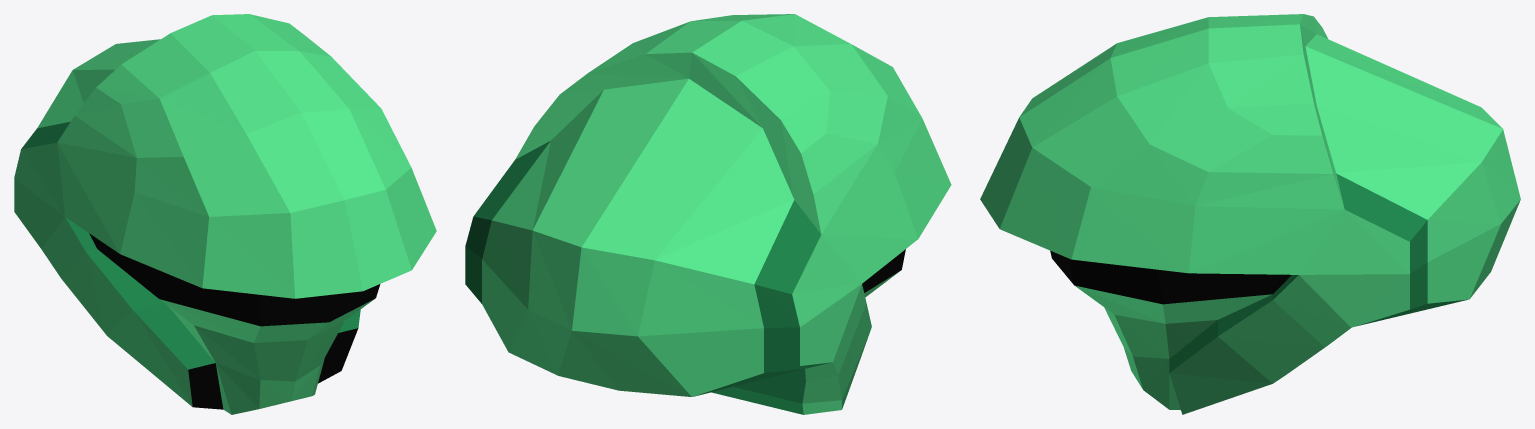
Rendered from Head.FBX.
3 views of the same model, side by side, from view 1: azimuth 30°, elevation 25°; view 2: azimuth 150°, elevation 25°; view 3: azimuth 270°, elevation 25° (orthographic). The views are drawn at different scales.
Visible parts, largest first — view 1: VIFS002, VIFS001, VIFS003, VIFS004; view 2: VIFS002, VIFS003, VIFS001; view 3: VIFS002, VIFS001, VIFS003.
Part boxes in pixels (<box>): VIFS002: <box>14,14,436,414</box>; VIFS001: <box>89,233,380,326</box>; VIFS003: <box>21,121,360,369</box>; VIFS004: <box>188,328,358,409</box>; VIFS002: <box>482,14,951,414</box>; VIFS003: <box>465,140,831,414</box>; VIFS001: <box>862,249,905,292</box>; VIFS002: <box>980,14,1520,414</box>; VIFS001: <box>1050,251,1291,304</box>; VIFS003: <box>1169,173,1467,372</box>.
Size of the model in its own units: 0.385 by 0.431 by 0.58.
